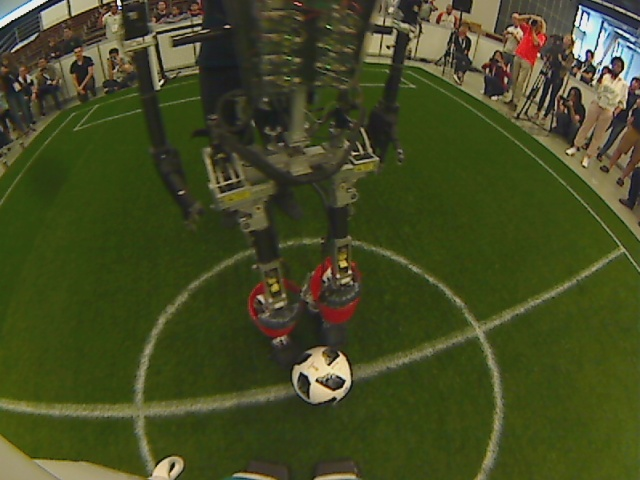ball: (292, 348, 352, 405)
goalpost: (148, 80, 171, 98)
robot: (259, 293, 363, 358)
